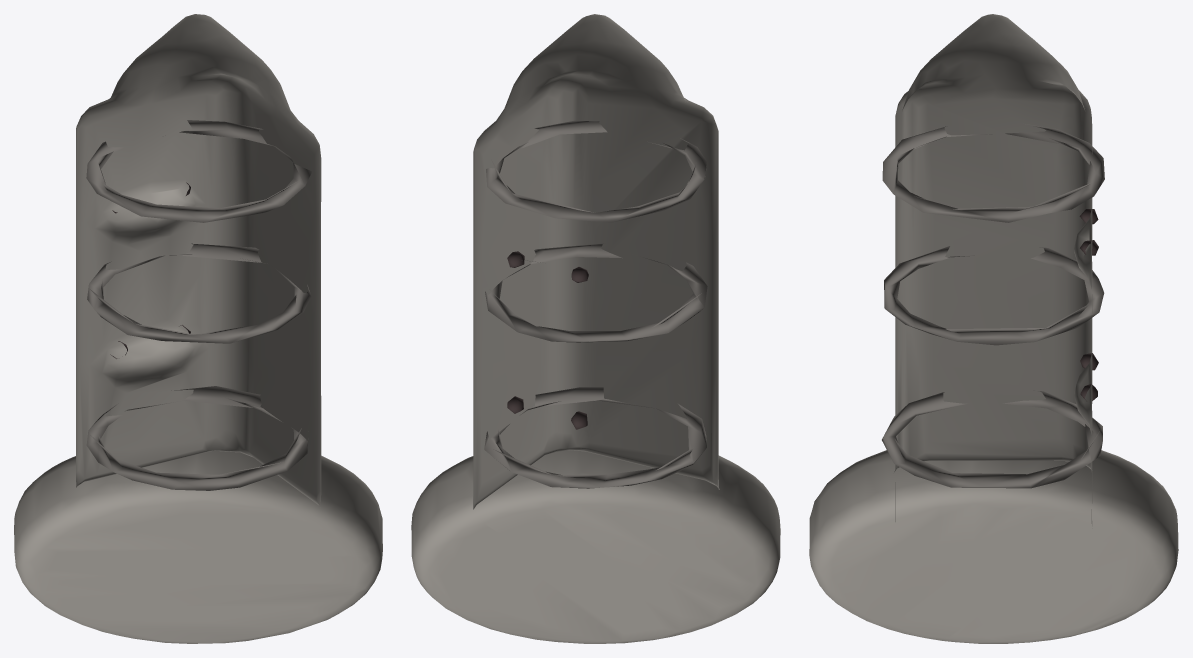
Rendered from prop_totem.glb.
3 views of the same model, side by side, from view 1: azimuth 30°, elevation 25°; view 2: azimuth 150°, elevation 25°; view 3: azimuth 270°, elevation 25° (orthographic).
Parts seen in each view (by area): view 1: body; view 2: body; view 3: body.
Boxes of the visible parts, left/top/right/bottom form: body: left=14, top=14, right=382, bottom=643; body: left=411, top=14, right=780, bottom=643; body: left=809, top=14, right=1178, bottom=643.
Bounding box in the file's own units: 3 × 4.99 × 3.
Materials: 1 (1 with a texture image).
